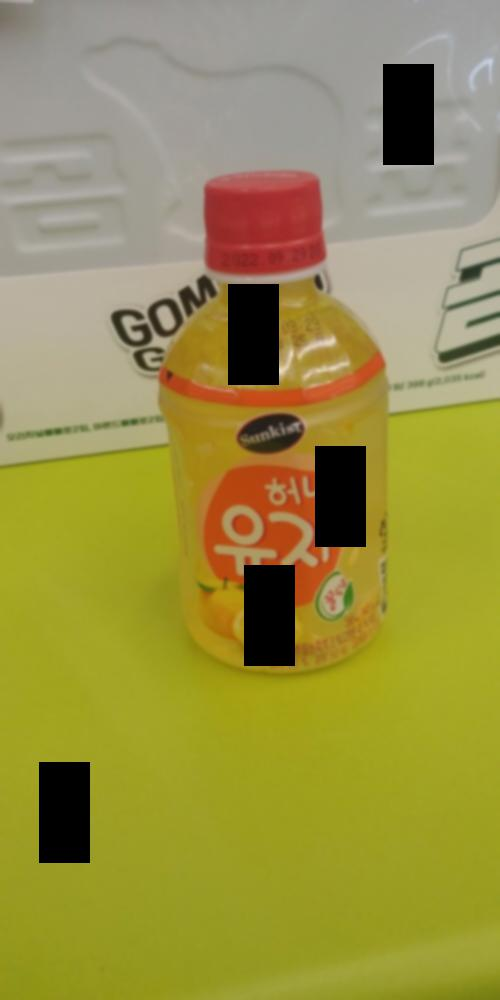honeyyuja: (118, 178, 436, 695)
